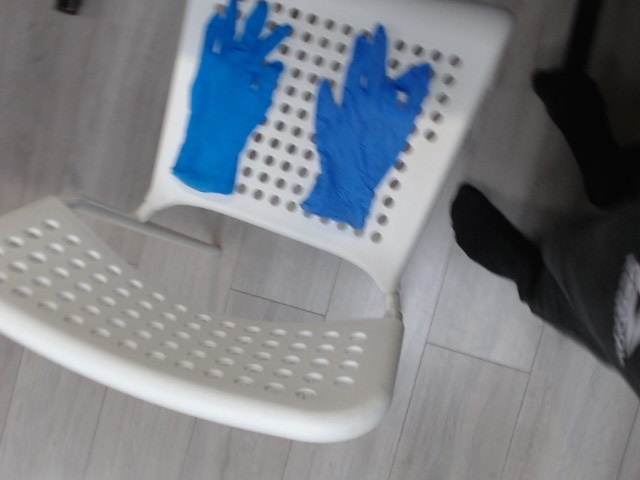medical_glove: (299, 22, 431, 228), (170, 1, 293, 194)
